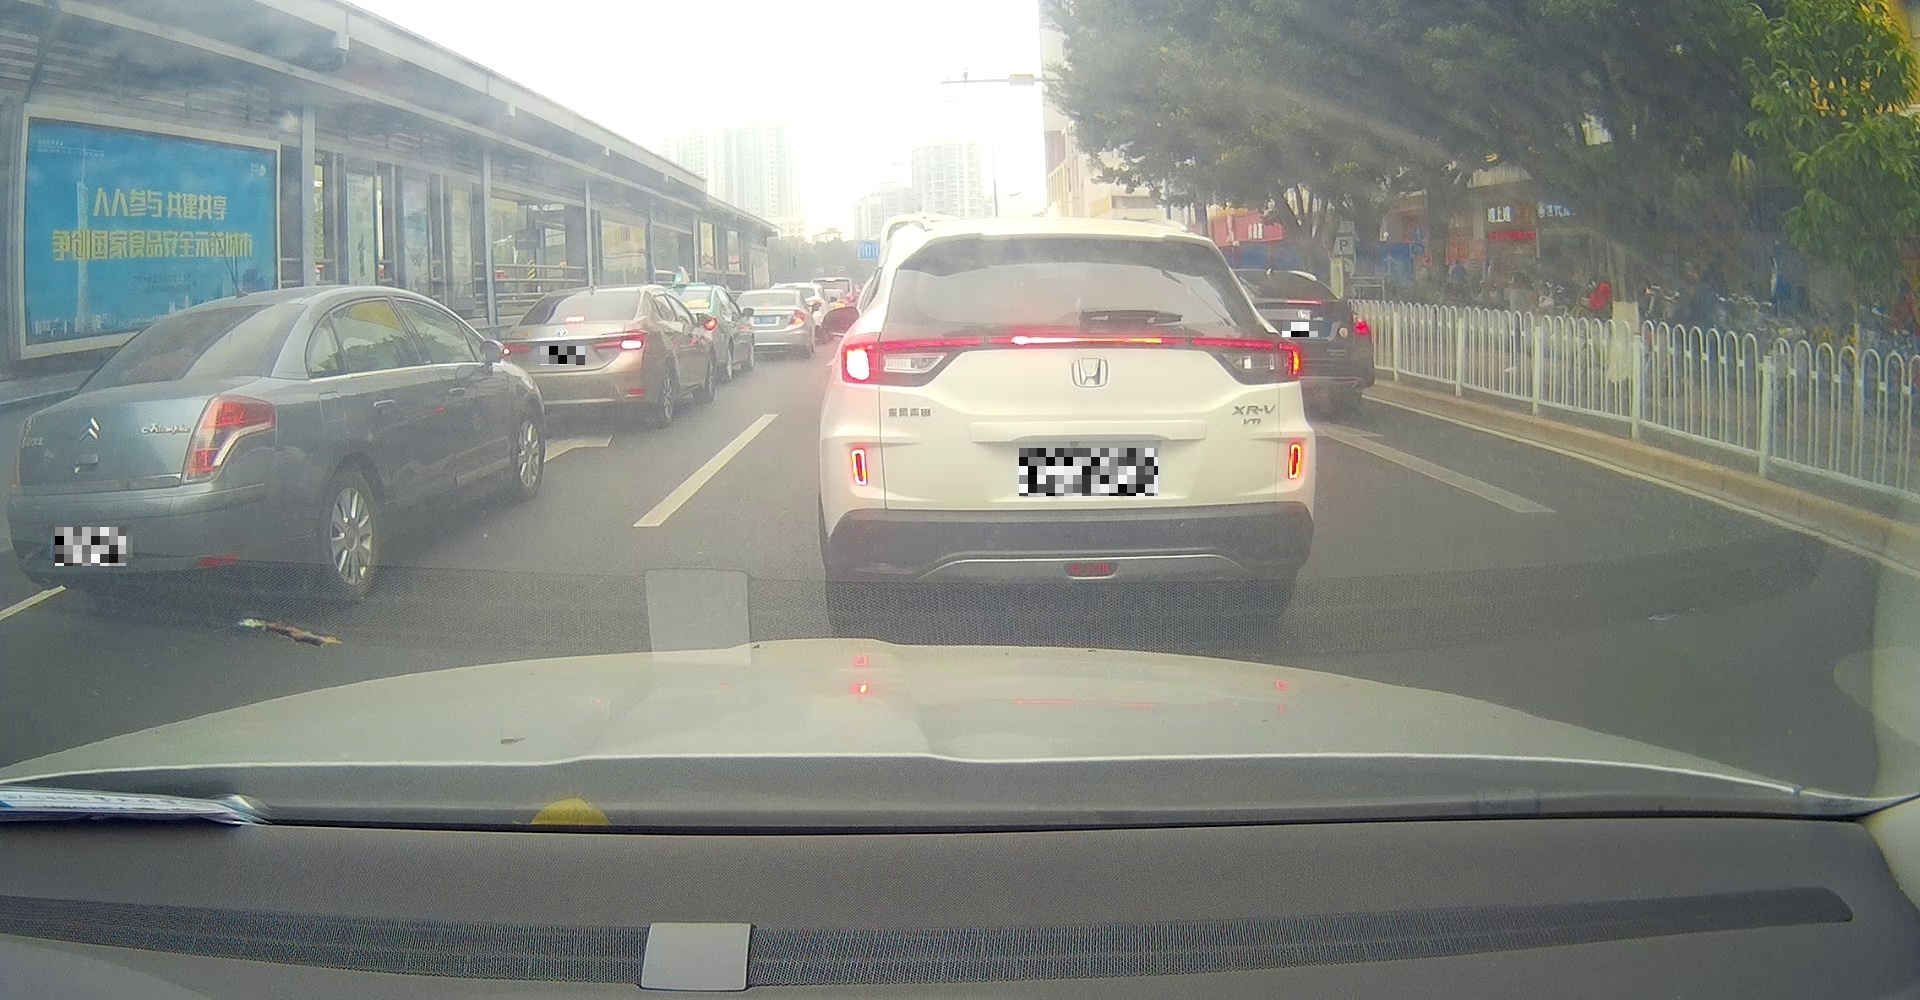L_light: (841, 336, 983, 387), (8, 418, 30, 497)
R_light: (179, 393, 276, 486), (1191, 338, 1302, 386)
T_light: (987, 335, 1187, 348), (117, 378, 171, 385)
day-brake: (817, 216, 1317, 628)
day-no: (5, 288, 303, 610)
plate_1: (55, 527, 126, 566)
plate_2: (540, 346, 585, 365)
plate_3: (1018, 448, 1158, 496)
plate_4: (1283, 322, 1324, 338)
